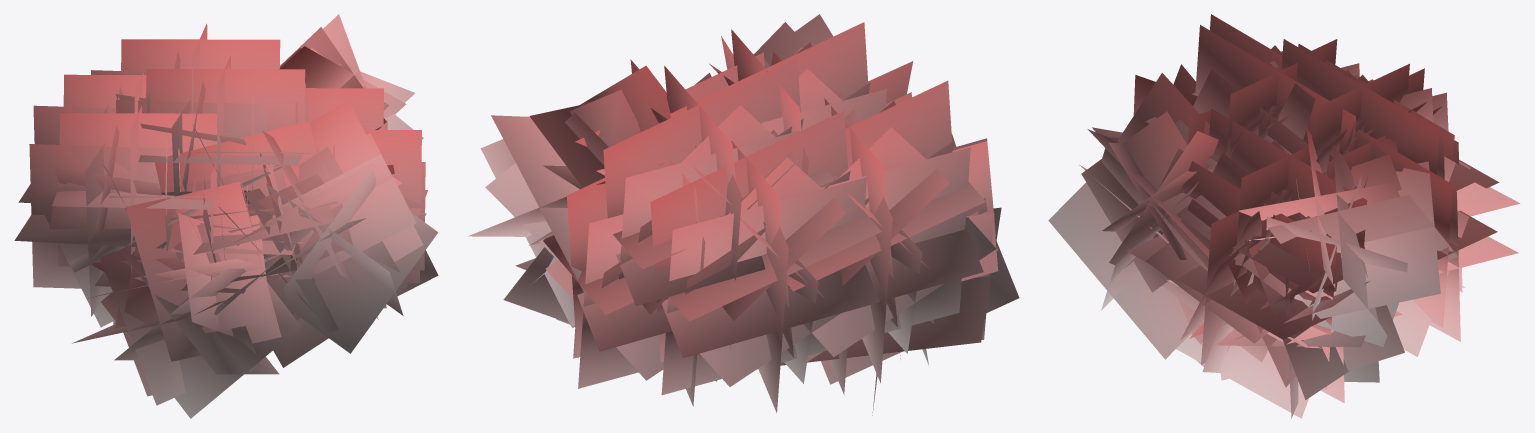
Rendered from MDL_Foliage01_WG.fbx.
3 renders of one model, left to right at view 1: azimuth 30°, elevation 25°; view 2: azimuth 150°, elevation 25°; view 3: azimuth 270°, elevation 25°, orthographic. The views are drawn at different scales.
Parts seen in each view (by area): view 1: RRC_Tree_Foliage_Mid_01_MDL; view 2: RRC_Tree_Foliage_Mid_01_MDL; view 3: RRC_Tree_Foliage_Mid_01_MDL.
Boxes of the visible parts, x1=… form: RRC_Tree_Foliage_Mid_01_MDL: x1=14, y1=14, x2=438, y2=418; RRC_Tree_Foliage_Mid_01_MDL: x1=468, y1=14, x2=1019, y2=415; RRC_Tree_Foliage_Mid_01_MDL: x1=1048, y1=14, x2=1520, y2=418.
Bounding box in the file's own units: 251 × 183 × 246.
